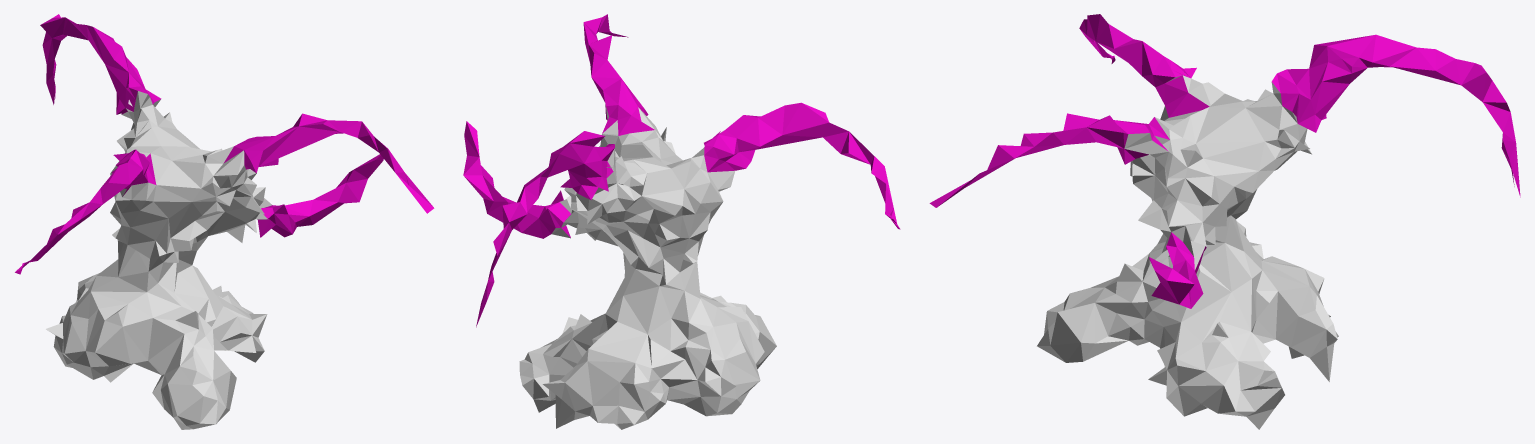
The model's file is WeirdTree2.fbx.
3 views of the same model, side by side, from view 1: azimuth 30°, elevation 25°; view 2: azimuth 150°, elevation 25°; view 3: azimuth 270°, elevation 25° (orthographic). The views are drawn at different scales.
Parts seen in each view (by area): view 1: Cube; view 2: Cube; view 3: Cube.
Boxes of the visible parts, x1,y1,x2,y2 form: Cube: (15, 14, 434, 429); Cube: (463, 14, 900, 429); Cube: (929, 14, 1520, 429).
Bounding box in the file's own units: 1776 × 1344 × 2052.
